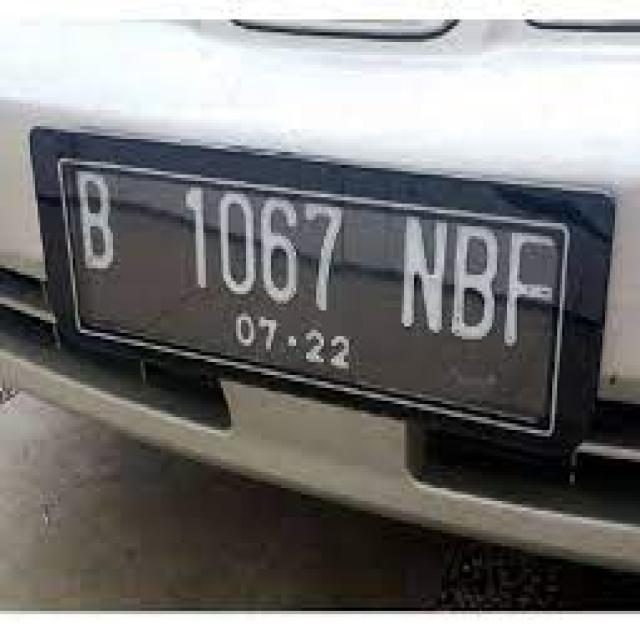license-plat: (20, 87, 609, 488)
